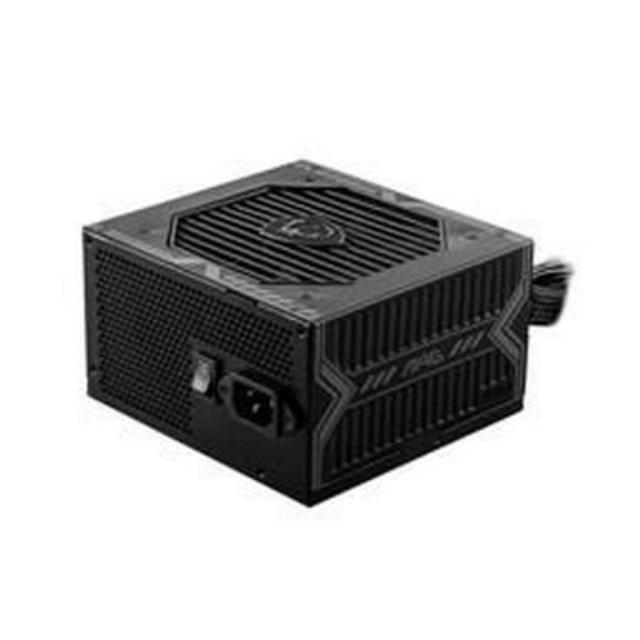PSU: (74, 154, 542, 523)
